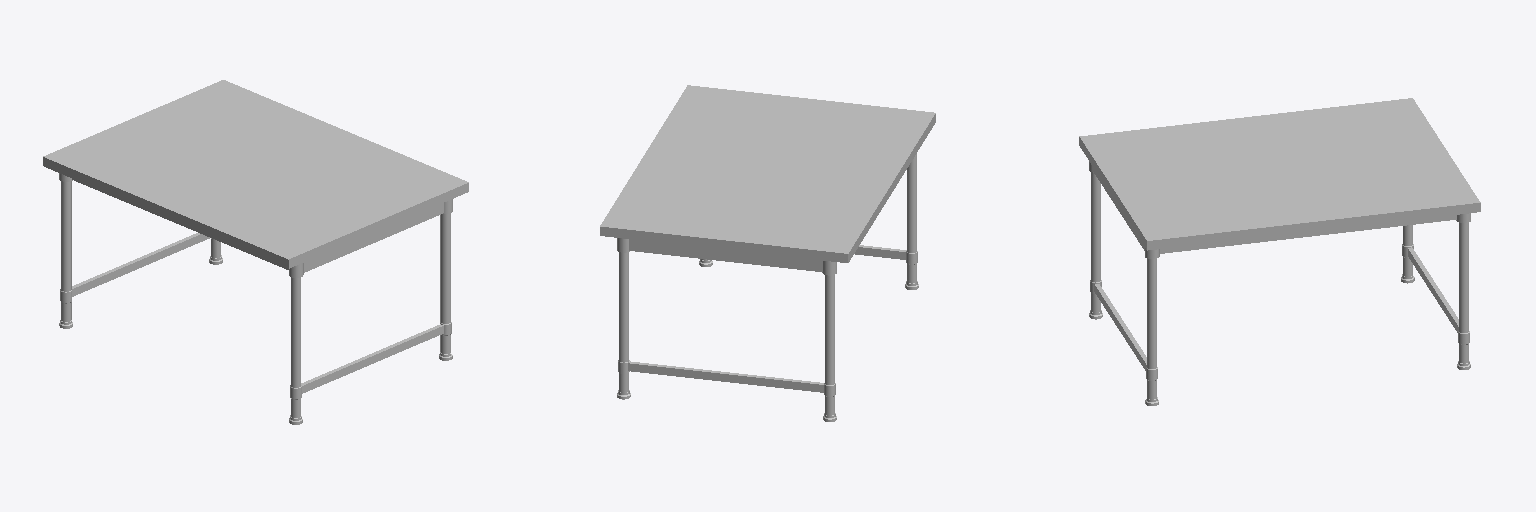
File: table.obj
3 views of the same model, side by side, from view 1: azimuth 30°, elevation 25°; view 2: azimuth 150°, elevation 25°; view 3: azimuth 270°, elevation 25° (orthographic).
Visible parts, largest first — view 1: Cube.001, Cylinder.001_Cylinder.002, Cube.003_Cube.009, Cube.001_Cube.003; view 2: Cube.001, Cylinder.001_Cylinder.002, Cube.003_Cube.009, Cube.001_Cube.003; view 3: Cube.001, Cylinder.001_Cylinder.002, Cube.003_Cube.009, Cube.002_Cube.006.
Part boxes in pixels (x1,y1,x2,y2): Cube.001: (43, 80, 468, 268); Cylinder.001_Cylinder.002: (61, 181, 450, 417); Cube.003_Cube.009: (72, 233, 443, 393); Cube.001_Cube.003: (304, 203, 443, 272); Cube.001: (600, 85, 935, 262); Cylinder.001_Cylinder.002: (619, 154, 916, 415); Cube.003_Cube.009: (628, 245, 906, 392); Cube.001_Cube.003: (629, 239, 822, 271); Cube.001: (1079, 98, 1480, 250); Cylinder.001_Cylinder.002: (1091, 172, 1468, 399); Cube.003_Cube.009: (1094, 247, 1458, 370); Cube.002_Cube.006: (1160, 215, 1456, 253).
Size of the model in its own units: 0.5622 by 0.3163 by 0.6655.